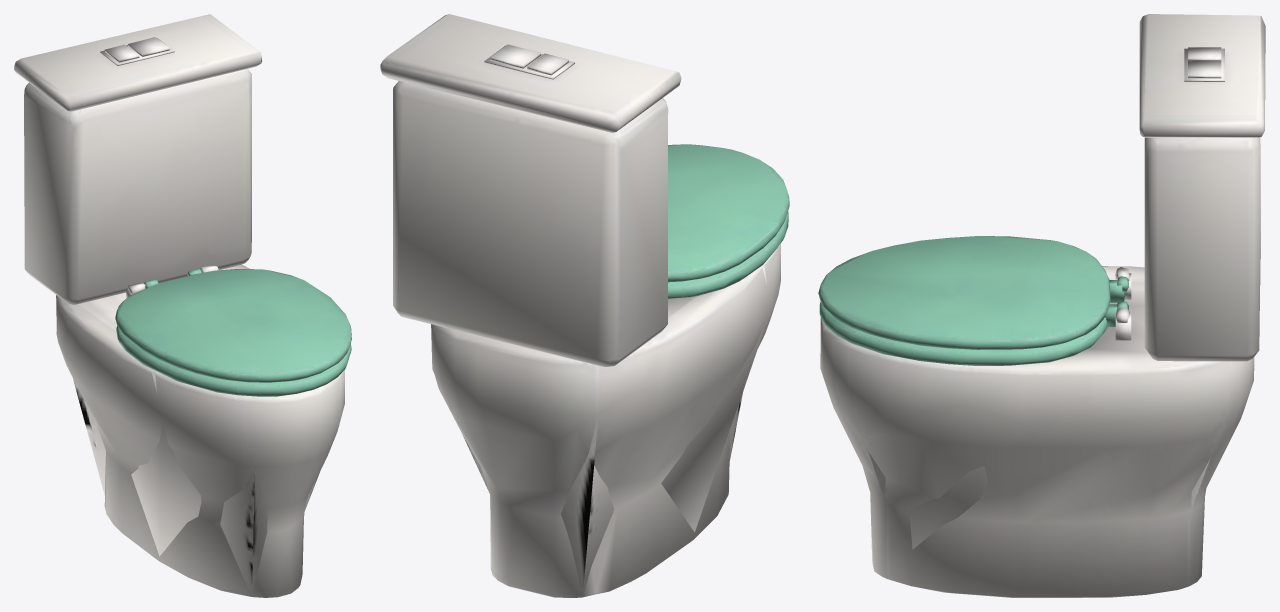
File: g3d_toilet.glb
3 renders of one model, left to right at view 1: azimuth 30°, elevation 25°; view 2: azimuth 150°, elevation 25°; view 3: azimuth 270°, elevation 25°, orthographic. The views are drawn at different scales.
Visible parts, largest first — view 1: toilet_body, toilet_lid, toilet_body_lo, toilet_seat; view 2: toilet_body, toilet_lid, toilet_body_lo, toilet_seat; view 3: toilet_body, toilet_lid, toilet_seat, toilet_body_lo.
Boxes of the visible parts, <box> form: toilet_body: <box>14,14,344,597</box>; toilet_lid: <box>115,269,351,382</box>; toilet_body_lo: <box>73,37,319,596</box>; toilet_seat: <box>116,269,351,396</box>; toilet_body: <box>380,14,780,597</box>; toilet_lid: <box>668,144,789,282</box>; toilet_body_lo: <box>462,44,769,596</box>; toilet_seat: <box>668,211,788,298</box>; toilet_body: <box>820,14,1265,597</box>; toilet_lid: <box>818,236,1110,349</box>; toilet_seat: <box>819,276,1128,365</box>; toilet_body_lo: <box>868,47,1224,583</box>.
Bounding box in the file's own units: 0.3779 × 0.8054 × 0.645.
Materials: 4 (3 with a texture image).
